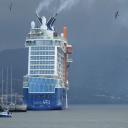cruises: (23, 13, 74, 115)
